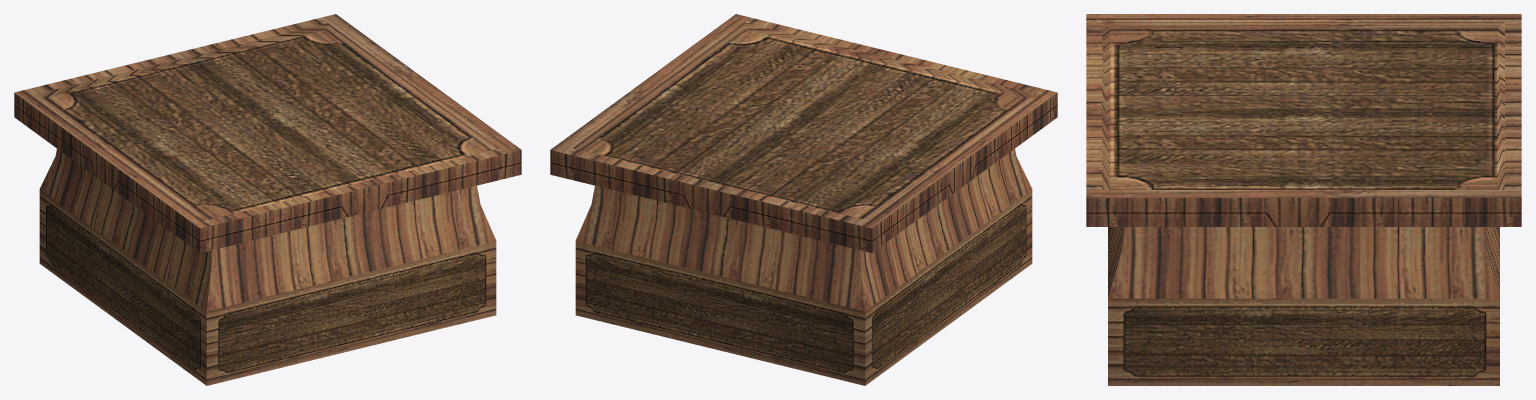
The model's file is frn_all_eleg_end_table_s02.fbx.
3 views of the same model, side by side, from view 1: azimuth 30°, elevation 25°; view 2: azimuth 150°, elevation 25°; view 3: azimuth 270°, elevation 25° (orthographic). The views are drawn at different scales.
Visible parts, largest first — view 1: mesh_node; view 2: mesh_node; view 3: mesh_node.
Part boxes in pixels (box(x1,y1,x2,y2)): mesh_node: box(14, 14, 521, 385); mesh_node: box(550, 14, 1057, 385); mesh_node: box(1086, 14, 1521, 385).
Bounding box in the file's own units: 0.8 × 0.3996 × 0.8.
